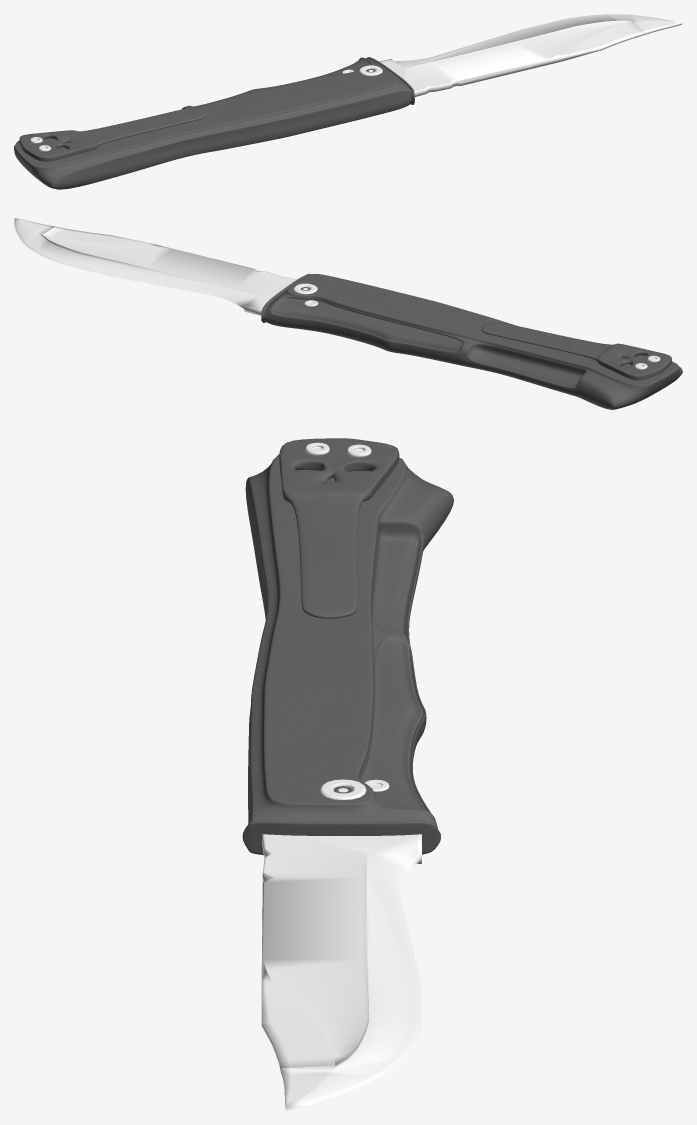
The model's file is knife.glb.
The picture shows the model from 3 angles, top to bottom: view 1: azimuth 30°, elevation 25°; view 2: azimuth 150°, elevation 25°; view 3: azimuth 270°, elevation 25°; orthographic projection. The views are drawn at different scales.
Parts seen in each view (by area): view 1: knife; view 2: knife; view 3: knife.
Part boxes in pixels (x1=…): knife: x1=14, y1=14, x2=682, y2=189; knife: x1=14, y1=218, x2=682, y2=409; knife: x1=242, y1=438, x2=453, y2=1110.
Size of the model in its own units: 0.4125 by 0.0207 by 0.0582.
2 materials, 1 textured.
